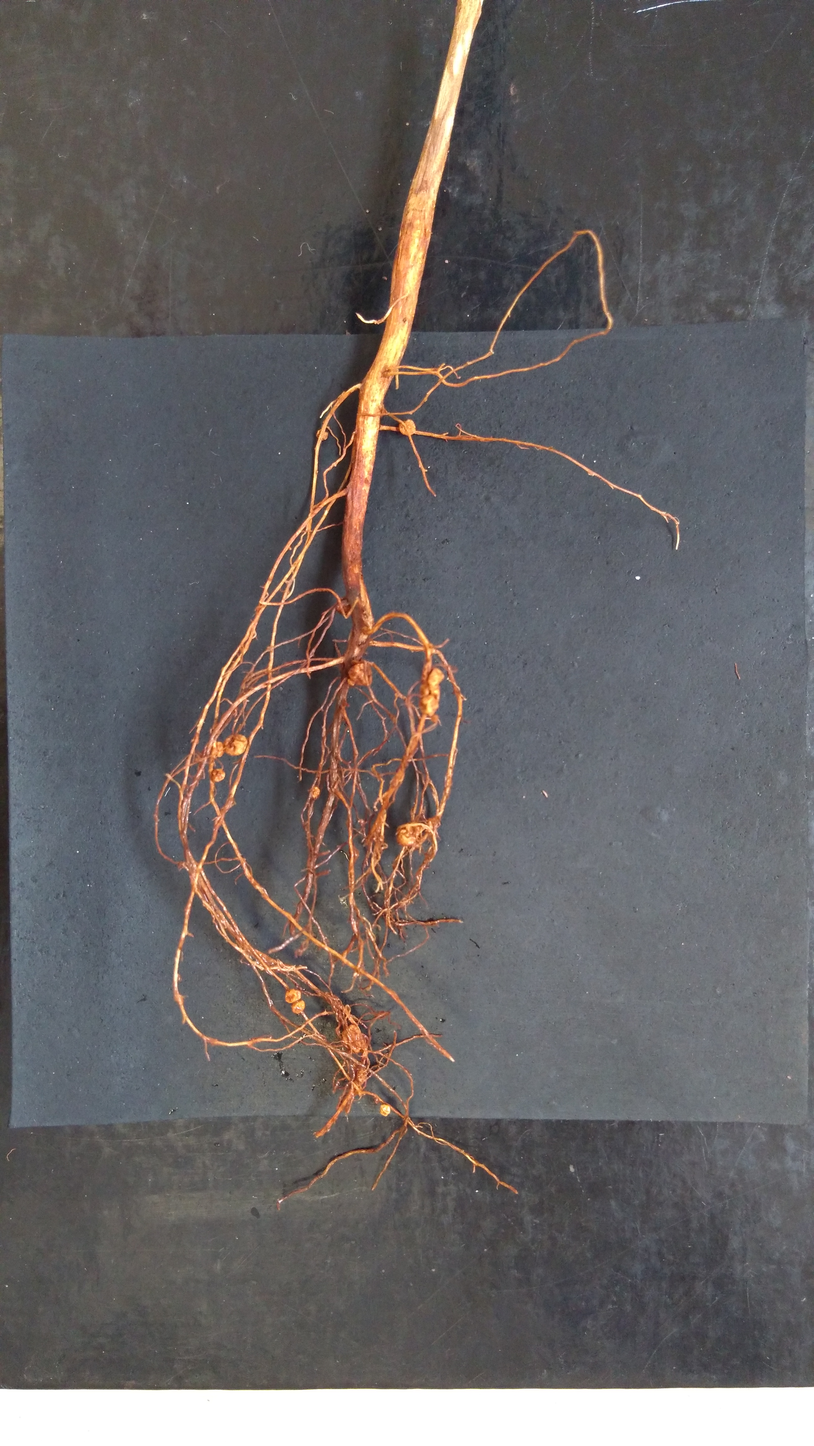nodule: (341, 1023, 364, 1055), (347, 662, 374, 688), (223, 732, 249, 758), (426, 666, 445, 701), (417, 694, 441, 718), (395, 823, 417, 849), (397, 418, 418, 436), (334, 597, 352, 618), (284, 987, 302, 1004), (289, 999, 307, 1015), (211, 767, 226, 784), (215, 740, 226, 758), (315, 428, 328, 441), (379, 1103, 391, 1117), (311, 785, 321, 799), (429, 714, 442, 723)
